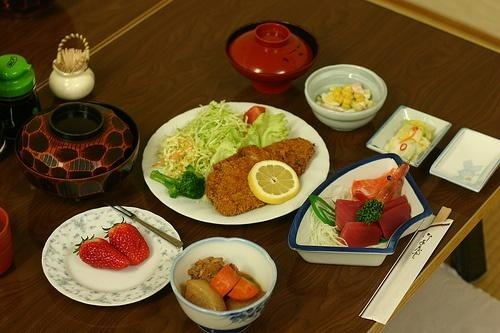diningtable: (3, 2, 498, 330)
